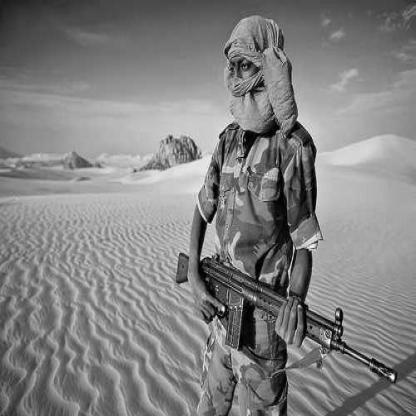rifle: (167, 243, 401, 394)
